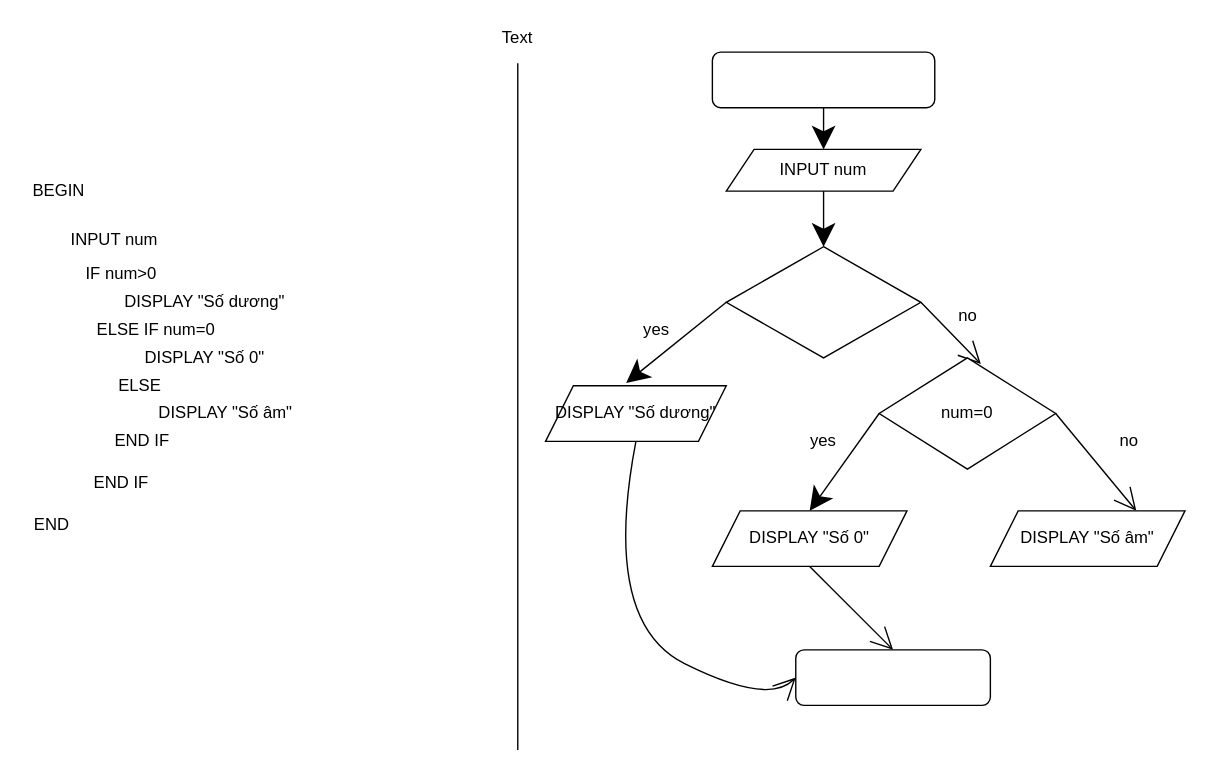
Some shapes in this 1209 by 776 pixel diagram are drawn without their labels. Here are the shapes that lost their labels. From the top down, the box of each, then its label:
(711, 51, 935, 108): START
(725, 245, 921, 358): num > 0
(794, 648, 990, 705): STOP
